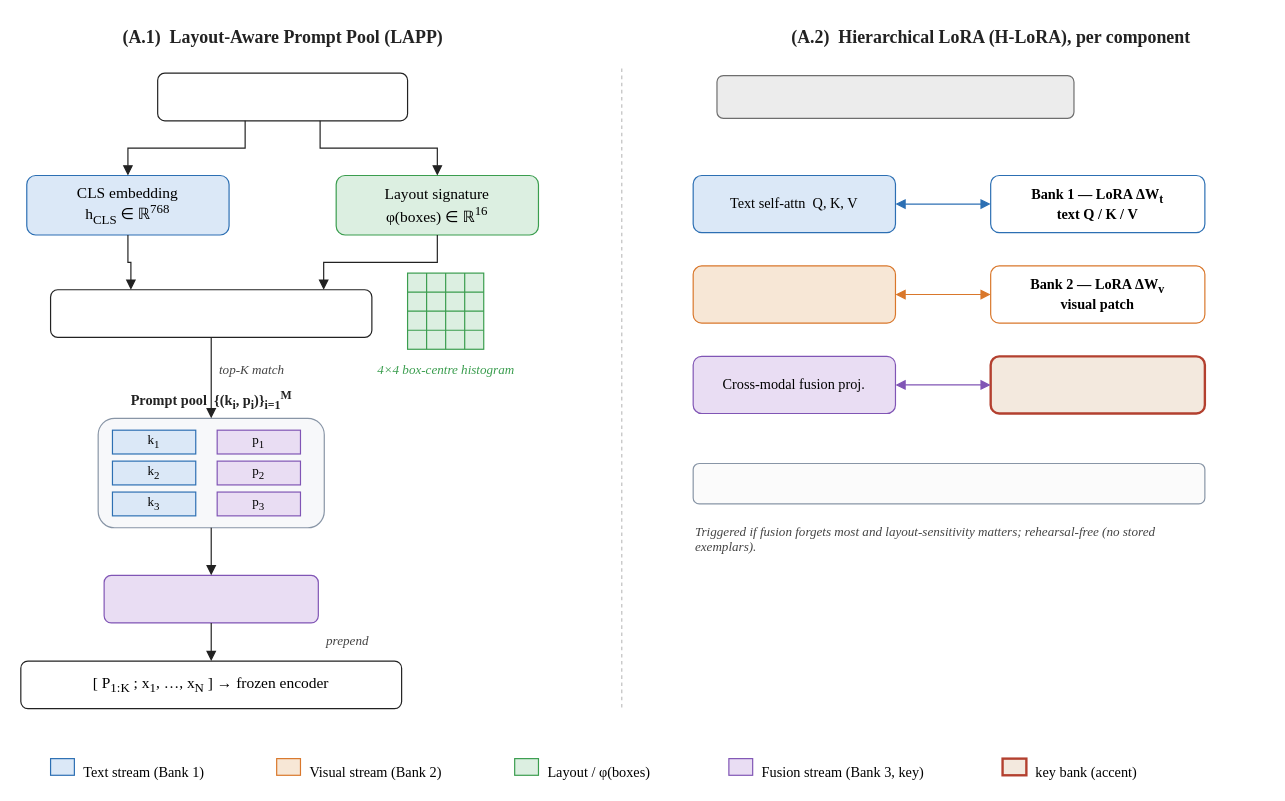
Some shapes in this 1285 by 801 pixel diagram are drawn without their labels. The shapes that lost their labels are listed below. From the top down, each one's box as (x1, y1, x2, y2) in pixels, then its label:
(156, 72, 408, 121): Input document (W, B, I)
(716, 74, 1074, 118): Frozen LayoutLMv3 backbone
(49, 289, 372, 337): q(x) = [ h CLS ; W layout φ(boxes) ]
(692, 265, 895, 323): Visual patch + self-attn
(989, 355, 1205, 414): Bank 3 (key) — LoRA ΔW f cross-modal fusion
(692, 462, 1205, 504): Per-bank orthogonality: (A t (b) ) ⊤ A <t (b) = 0 for each bank b
(103, 574, 318, 623): Top-K selected prompts P 1:K
